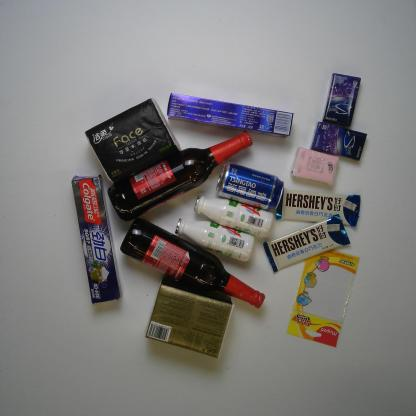Alcohol: (119, 215, 266, 309), (108, 129, 254, 220), (214, 162, 288, 211)
Chocolate: (261, 214, 351, 275), (276, 188, 363, 229)
Gum: (311, 120, 367, 165), (322, 72, 362, 128)
Milk: (193, 193, 276, 238), (173, 217, 254, 262)
Personal Hygiene: (72, 173, 121, 305), (166, 89, 296, 137)
Stationery: (285, 249, 362, 350)
Tissue: (83, 95, 182, 183), (144, 275, 234, 359), (292, 146, 340, 184)
